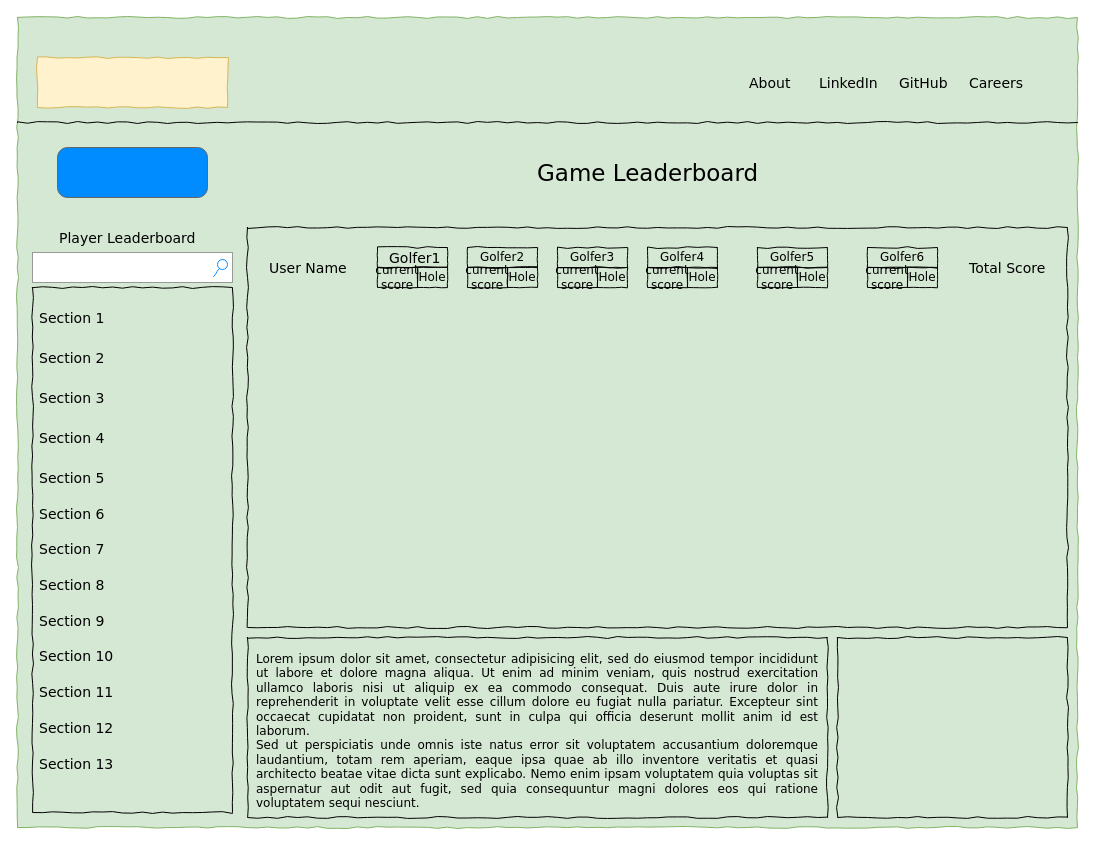
This 1095x845 diagram has some shape labels left out. Here are the shapes that lost their labels. From the top down, the centre of each, then its label:
At pixel 132 82: "Golf Guys".
At pixel 132 172: "Play Now".
At pixel 132 267: "Search".
At pixel 952 727: "External Links".
